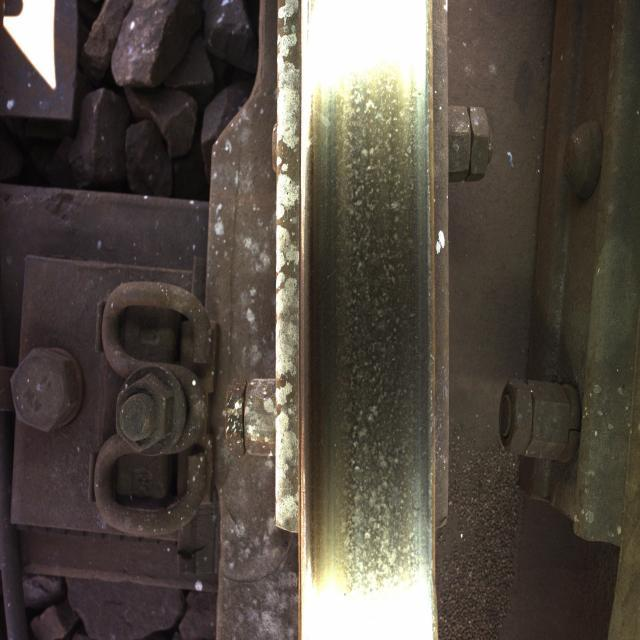scar: (310, 56, 421, 580)
